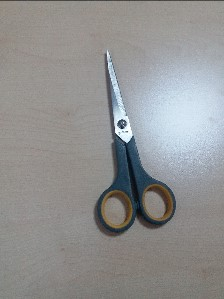scissors: (95, 47, 175, 237)
